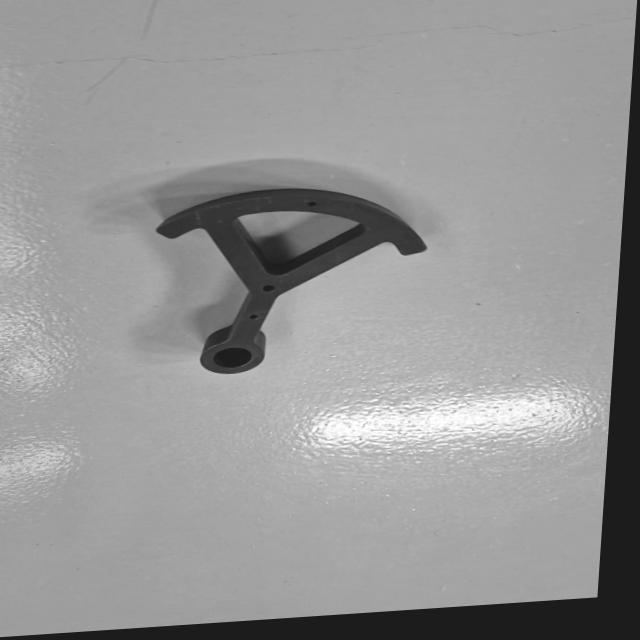haptic: (143, 177, 434, 381)
